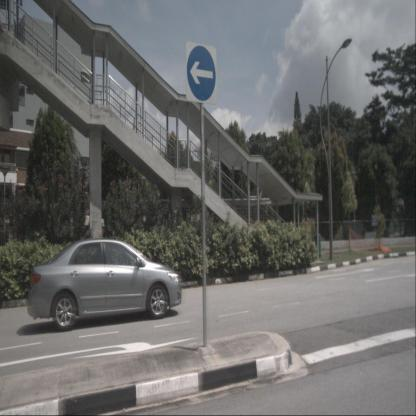vehicle-car: (27, 238, 182, 332)
